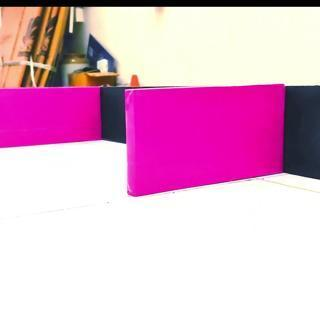xparking: (128, 88, 284, 188), (0, 88, 101, 146)
